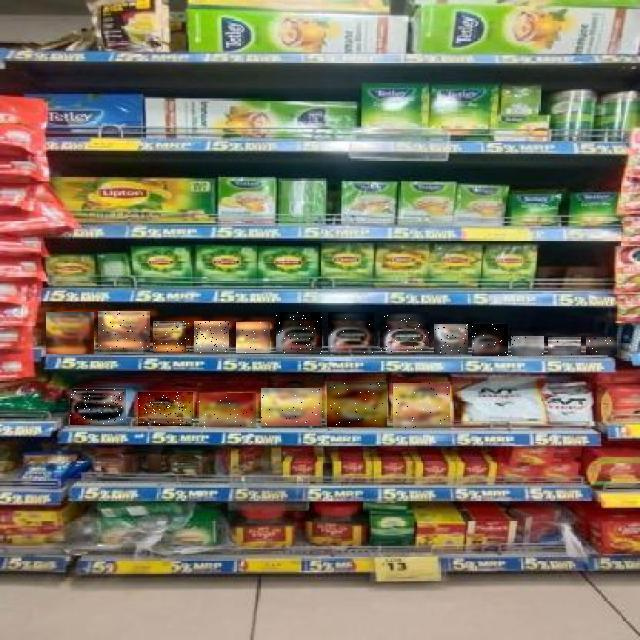Coffee: (327, 382, 387, 427), (393, 383, 450, 428), (262, 388, 324, 426), (98, 312, 150, 352), (380, 312, 429, 354), (46, 312, 94, 354), (71, 389, 127, 425), (200, 393, 258, 427), (328, 312, 374, 354), (276, 312, 322, 354), (138, 392, 193, 426), (154, 321, 190, 353), (472, 324, 508, 356), (194, 322, 229, 354), (236, 322, 270, 353), (434, 324, 468, 354), (511, 336, 544, 356), (548, 337, 581, 355), (586, 337, 617, 355)
